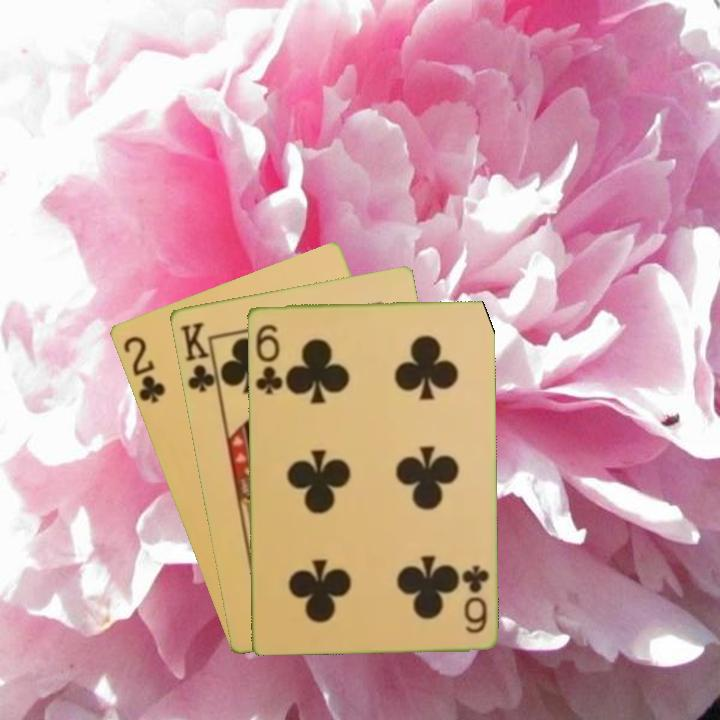2c: (119, 332, 168, 406)
6c: (251, 320, 285, 397), (459, 561, 491, 635)
Kc: (176, 318, 221, 396)
